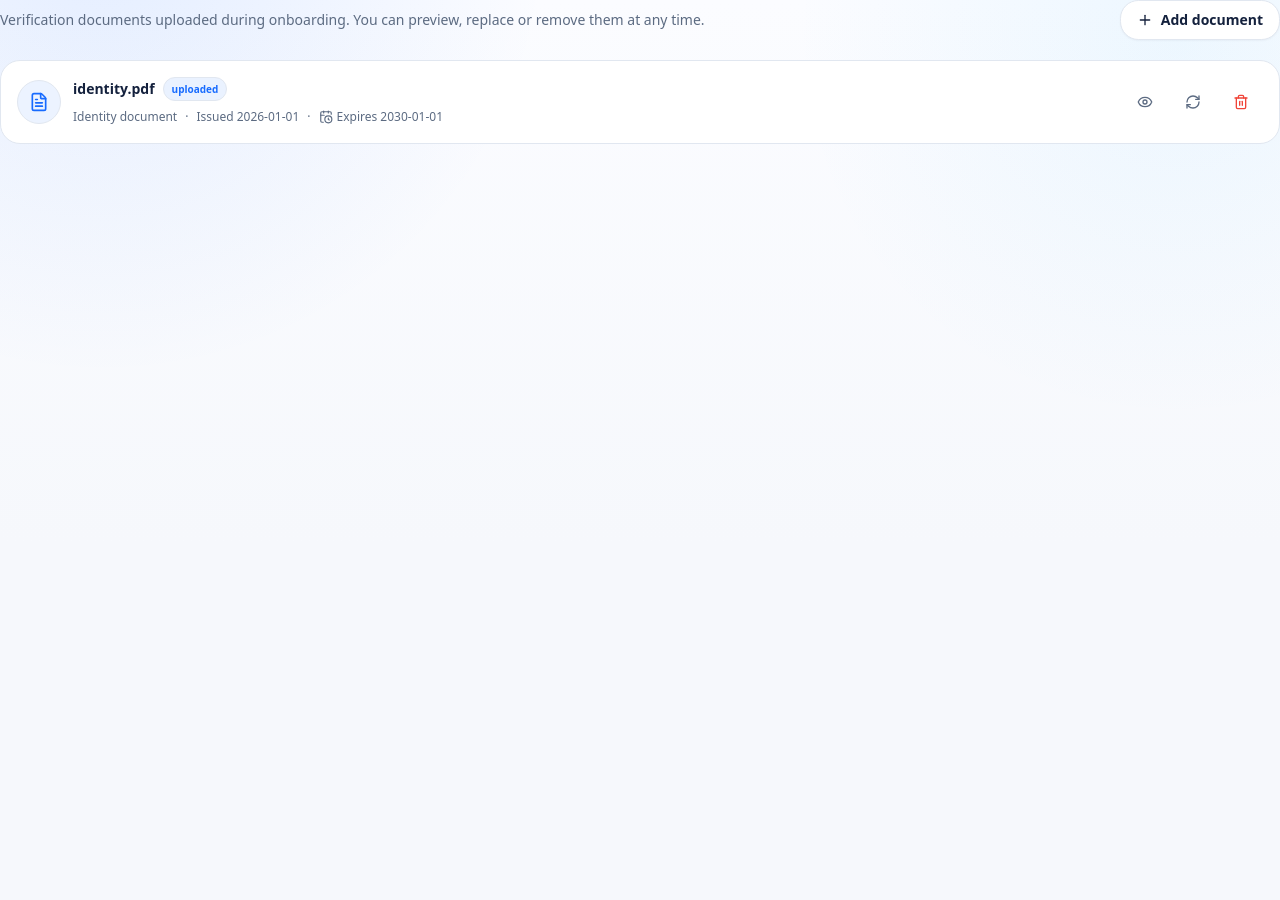
Test: ProfileDocumentsManager › keeps the document when the delete API rejects it
The image size is (1280, 900).
Click the button named "Delete identity.pdf".
click(1241, 102)  # box [1219,80,1263,124]
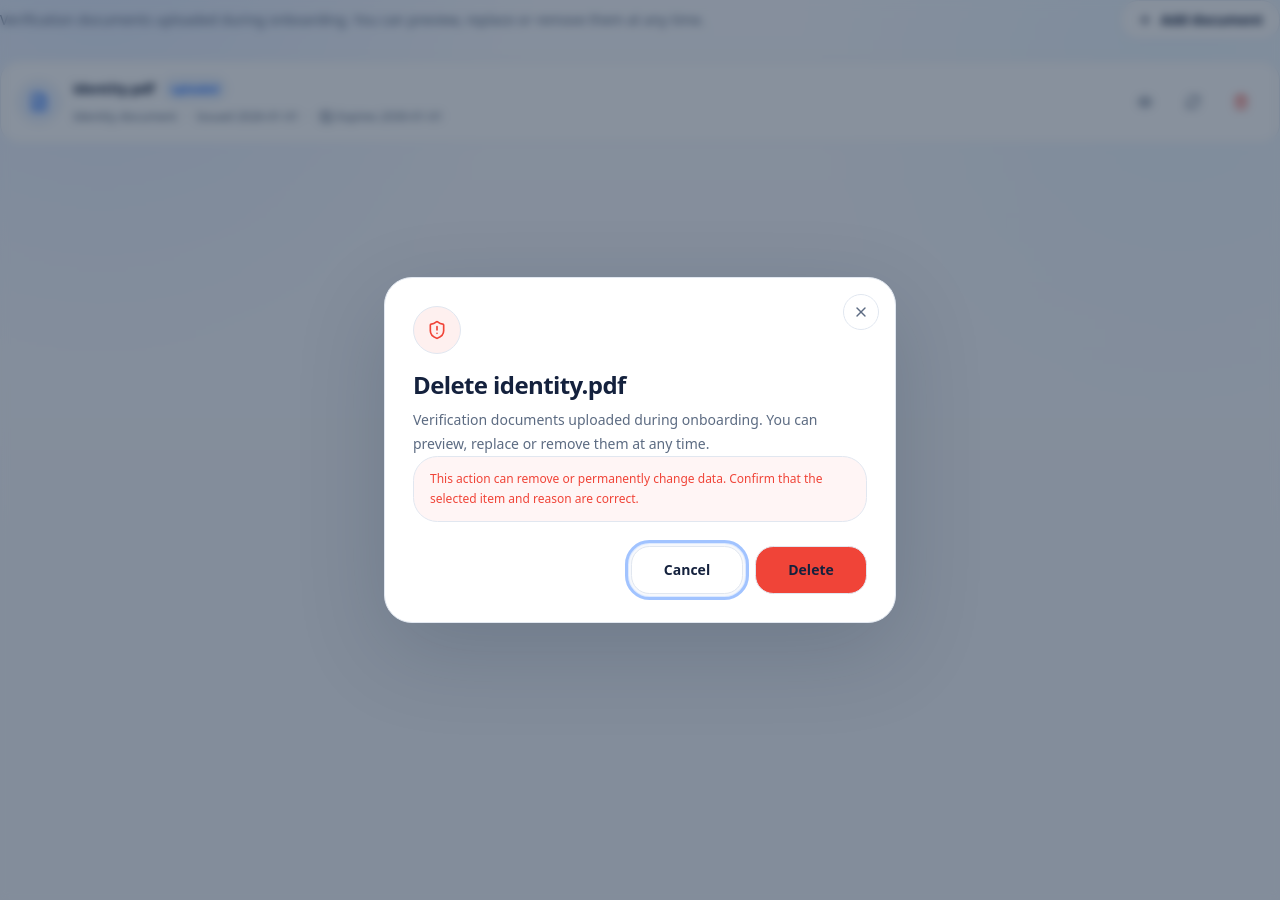
Click the button "Delete".
click(811, 570)  # box [755,546,867,594]
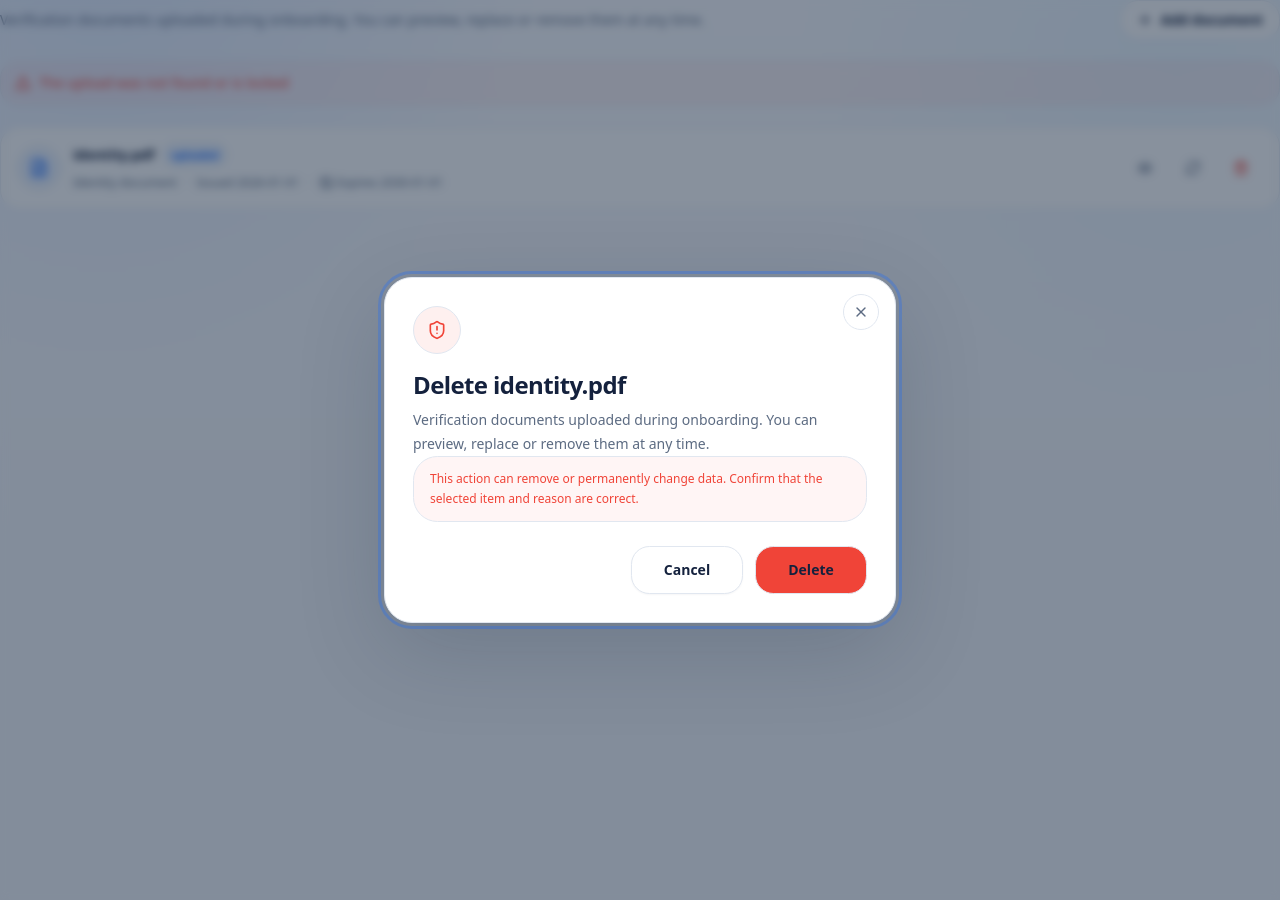
Expected: the text "identity.pdf" is shown, [73,145,155,165]
Now the text "The upload was not found or is locked" is shown, box [39,73,289,93]
